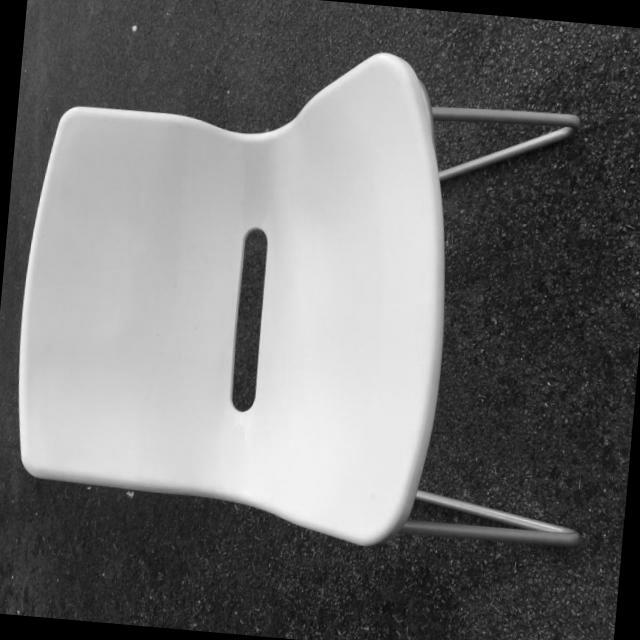chair: (1, 16, 622, 563)
